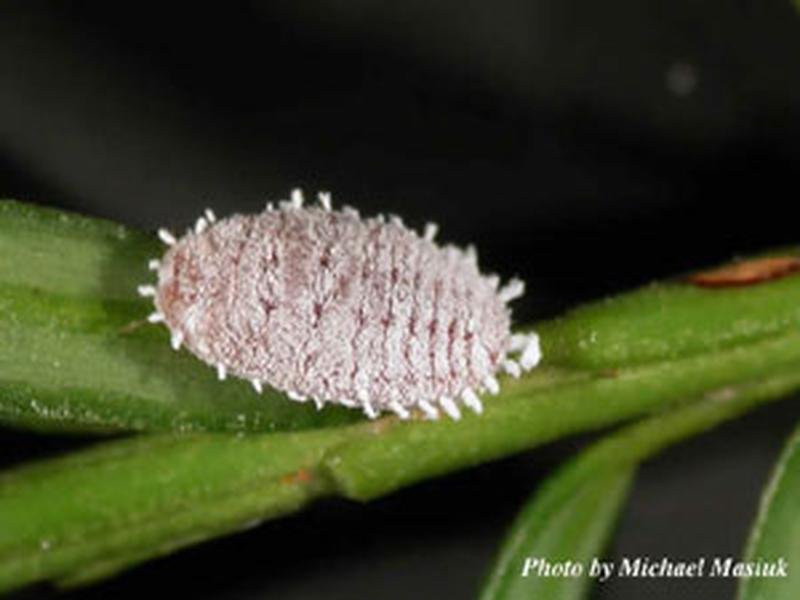Mealy_bug: (135, 189, 553, 424)
